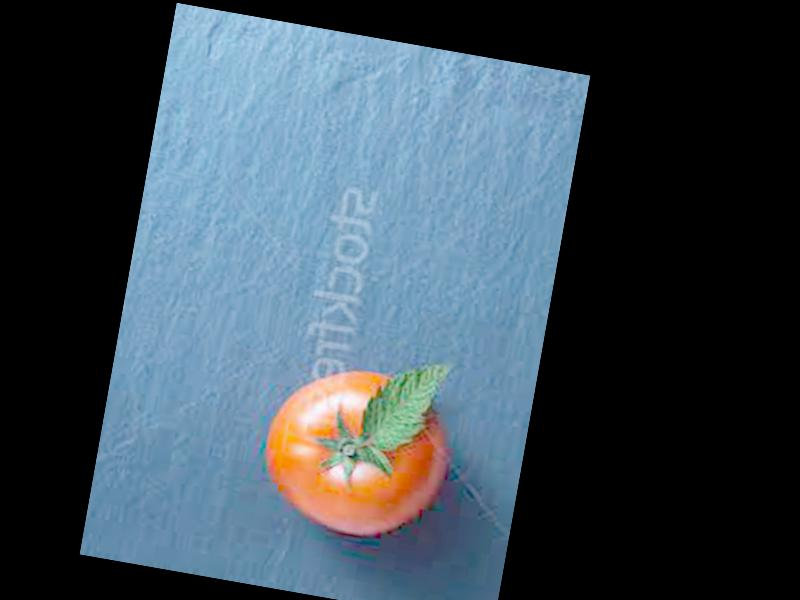Tomato: (254, 354, 456, 545)
